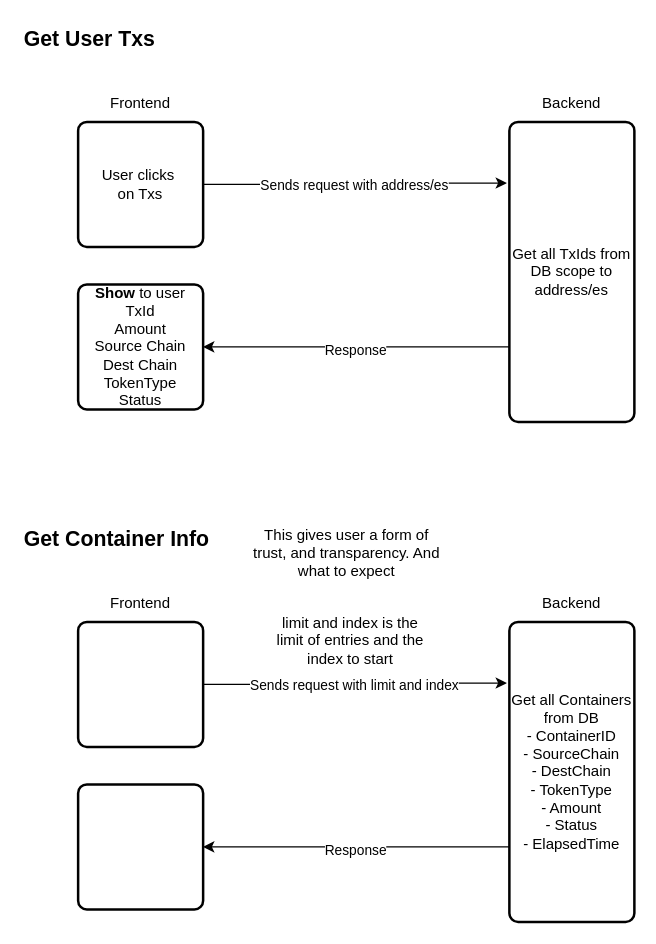
Image size: 656x944. Some labels were removed from this diagram. Here are the shapes that lost their labels. From the top down, the centre of each, then its label:
At point (140, 684): "User clicks on Containers".
At point (140, 846): "Show to user entries of containers".
